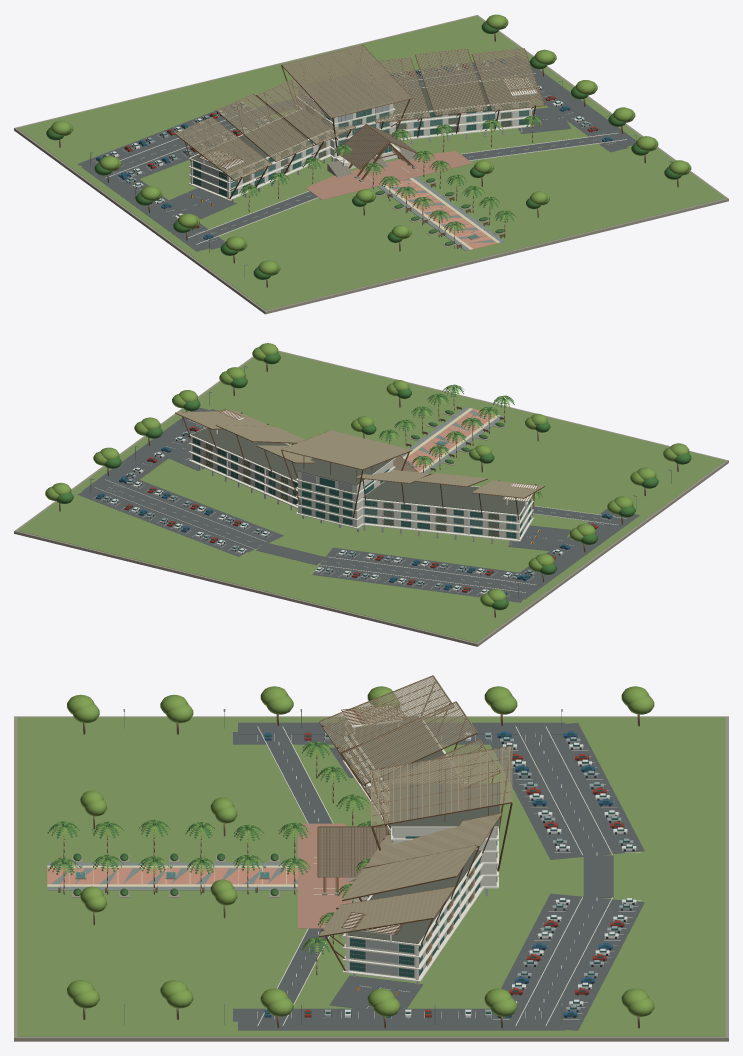
File: bdmsp.glb
The picture shows the model from 3 angles, top to bottom: view 1: azimuth 30°, elevation 25°; view 2: azimuth 150°, elevation 25°; view 3: azimuth 270°, elevation 25°; orthographic projection. The views are drawn at different scales.
Parts seen in each view (by area): view 1: BDMSP_Lawn, BDMSP_CentralCrown_Louvres, BDMSP_SiteBase, BDMSP_East_Wing_RoofScreen2_Louvres, BDMSP_ShadeTreeCrowns_LeafLight, BDMSP_East_Wing_RoofScreen3_Louvres, BDMSP_SideDrive, BDMSP_West_Wing_RoofScreen2_Louvres, BDMSP_RearParkingAprons, BDMSP_PavedArrivalCourt, BDMSP_West_Wing_RoofScreen3_Louvres, BDMSP_PalmLeaflets_Leaf (+26 smaller); view 2: BDMSP_Lawn, BDMSP_RearParkingAprons, BDMSP_SiteBase, BDMSP_RearCurvedDrive, BDMSP_ShadeTreeCrowns_LeafLight, BDMSP_West_Wing_WeatherRoof, BDMSP_SideDrive, BDMSP_CentralCrown_Louvres, BDMSP_East_Wing_WeatherRoof, BDMSP_West_Wing_FloorPlates, BDMSP_ShadeTreeCrowns_Leaf, BDMSP_West_Wing (+32 smaller); view 3: BDMSP_Lawn, BDMSP_RearParkingAprons, BDMSP_ShadeTreeCrowns_LeafLight, BDMSP_CentralCrown_Louvres, BDMSP_SiteBase, BDMSP_RearCurvedDrive, BDMSP_SideDrive, BDMSP_West_Wing_RoofScreen2_Louvres, BDMSP_West_Wing_RoofScreen3_Louvres, BDMSP_FrontCurvedDrive, BDMSP_PalmLeaflets_Leaf, BDMSP_SideParkingApron (+32 smaller).
Part boxes in pixels (x1,y1,x2,y2): BDMSP_Lawn: (17, 16, 725, 310); BDMSP_CentralCrown_Louvres: (282, 44, 411, 117); BDMSP_SiteBase: (14, 15, 728, 314); BDMSP_East_Wing_RoofScreen2_Louvres: (415, 48, 487, 115); BDMSP_ShadeTreeCrowns_LeafLight: (51, 14, 691, 275); BDMSP_East_Wing_RoofScreen3_Louvres: (472, 48, 544, 110); BDMSP_SideDrive: (82, 59, 636, 251); BDMSP_West_Wing_RoofScreen2_Louvres: (216, 93, 312, 161); BDMSP_RearParkingAprons: (77, 56, 522, 178); BDMSP_PavedArrivalCourt: (306, 151, 472, 199); BDMSP_West_Wing_RoofScreen3_Louvres: (175, 117, 272, 180); BDMSP_PalmLeaflets_Leaf: (241, 115, 543, 232); BDMSP_Lawn: (17, 351, 725, 642); BDMSP_RearParkingAprons: (77, 480, 523, 602); BDMSP_SiteBase: (14, 350, 728, 646); BDMSP_RearCurvedDrive: (93, 480, 533, 593); BDMSP_ShadeTreeCrowns_LeafLight: (45, 343, 689, 607); BDMSP_West_Wing_WeatherRoof: (363, 481, 526, 514); BDMSP_SideDrive: (82, 407, 639, 599); BDMSP_CentralCrown_Louvres: (281, 430, 411, 469); BDMSP_East_Wing_WeatherRoof: (191, 427, 304, 481); BDMSP_West_Wing_FloorPlates: (363, 486, 533, 541); BDMSP_ShadeTreeCrowns_Leaf: (56, 353, 691, 610); BDMSP_West_Wing: (364, 500, 530, 539); BDMSP_Lawn: (17, 717, 725, 1036); BDMSP_RearParkingAprons: (490, 722, 644, 1030); BDMSP_ShadeTreeCrowns_LeafLight: (67, 686, 654, 1016); BDMSP_CentralCrown_Louvres: (371, 745, 512, 826); BDMSP_SiteBase: (14, 716, 728, 1041); BDMSP_RearCurvedDrive: (517, 725, 611, 1027); BDMSP_SideDrive: (238, 722, 565, 1030); BDMSP_West_Wing_RoofScreen2_Louvres: (342, 701, 477, 784); BDMSP_West_Wing_RoofScreen3_Louvres: (319, 675, 454, 752); BDMSP_FrontCurvedDrive: (259, 726, 332, 1027); BDMSP_PalmLeaflets_Leaf: (47, 741, 382, 954); BDMSP_SideParkingApron: (233, 732, 524, 1021).
Bounding box in the file's own units: 228 × 35.31 × 214.
